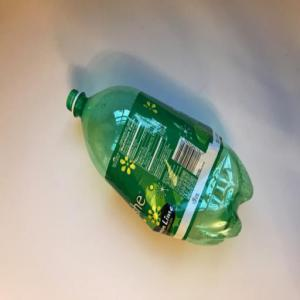Plastic-bottle: (66, 84, 255, 246)
